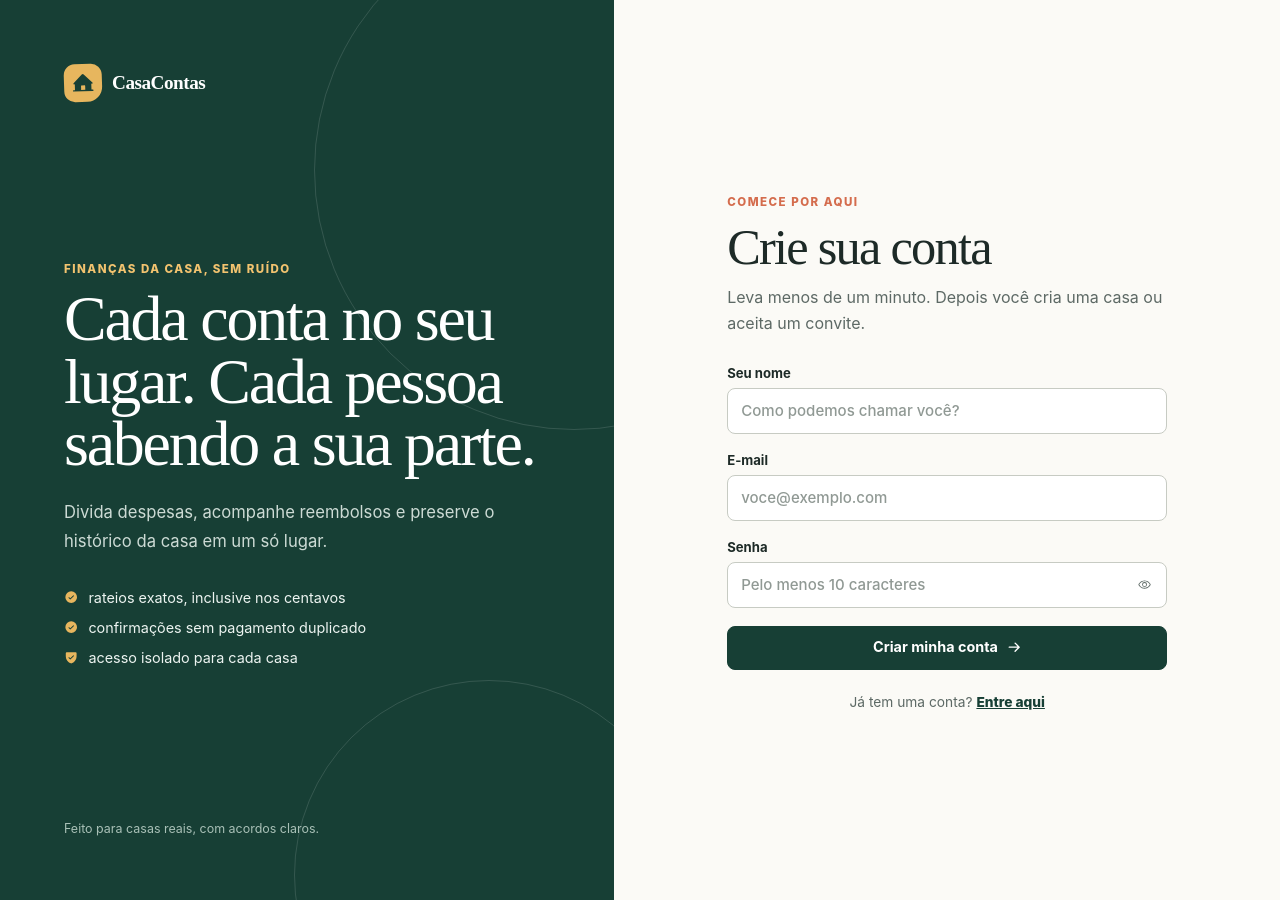
Scenario: AuthPage › explica os campos inválidos no cadastro
The width and height of the screenshot is (1280, 900).
Click the button "Criar minha conta" at (947, 648), box 727,626 -> 1167,670
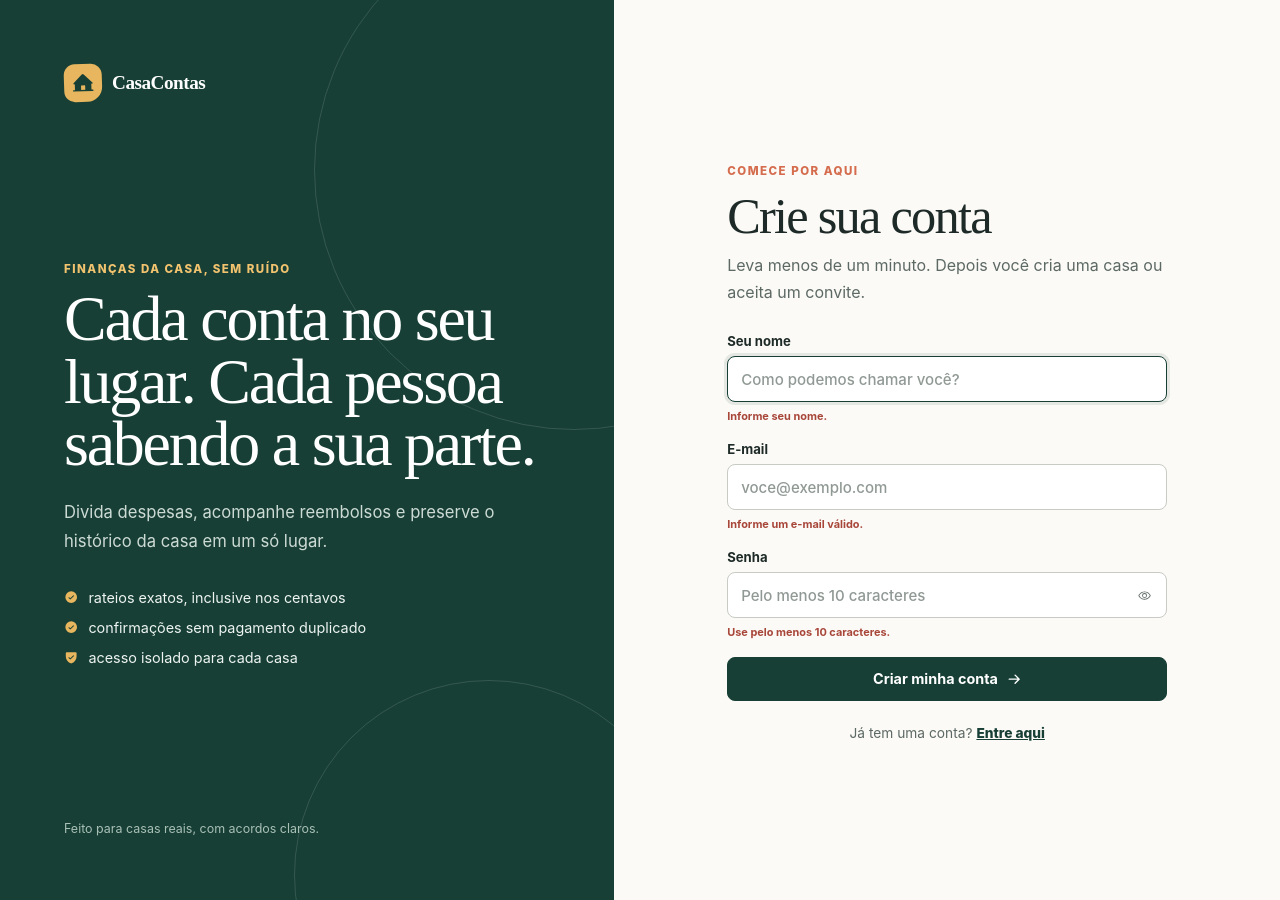
Expected: the text "Informe seu nome." is shown, 727,409 -> 827,423
Expected: the text "Informe um e-mail válido." is shown, 727,517 -> 863,531
Expected: the text "Use pelo menos 10 caracteres." is shown, 727,625 -> 890,639
